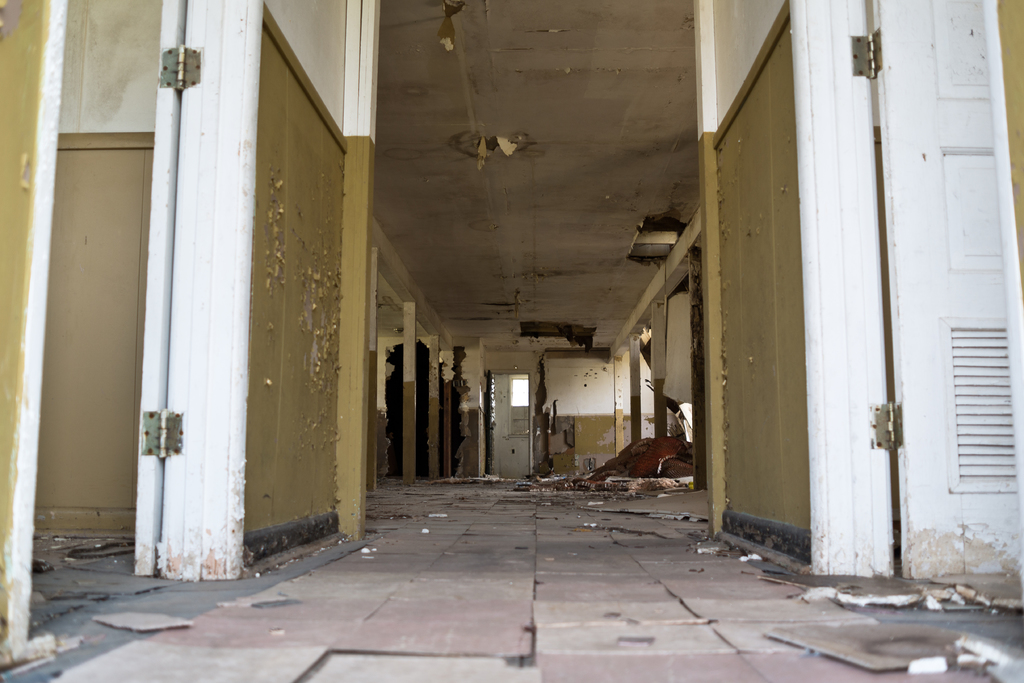door: (892, 23, 1024, 585)
